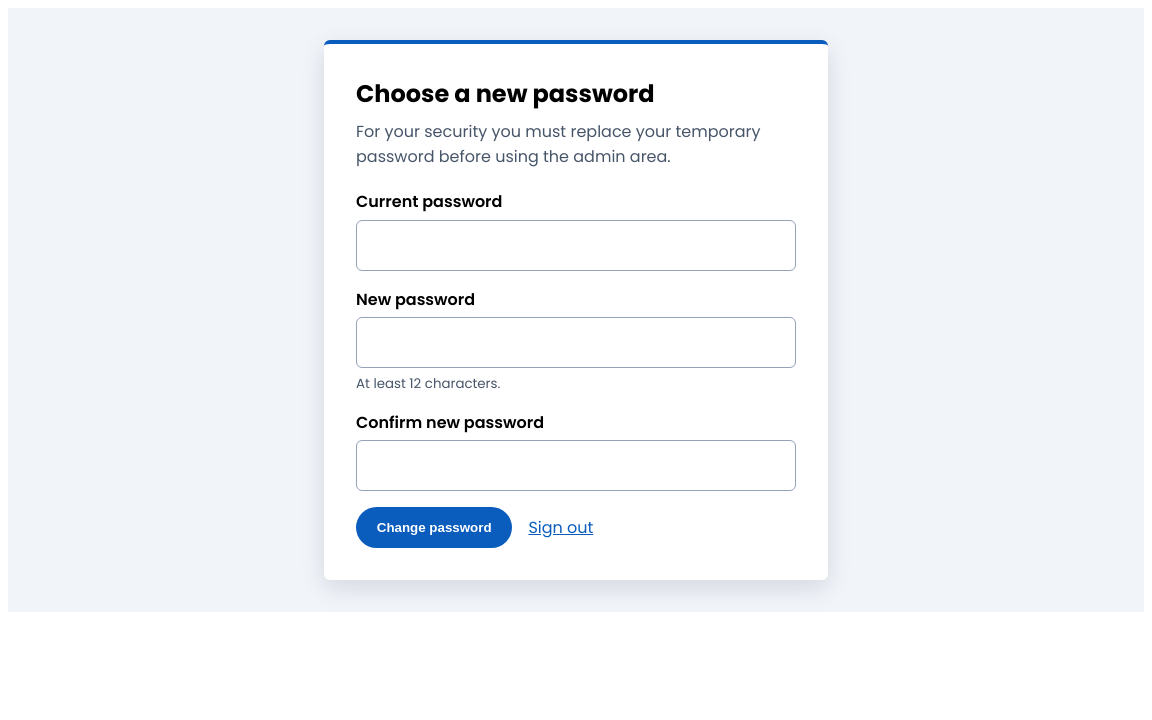
Scenario: ChangePasswordPageComponent › requires the confirmation to match
This screenshot has width=1152, height=720.
Type "temporary-password-1" into the password field labelled "Current password" at x=576, y=245, box [356, 220, 796, 271]
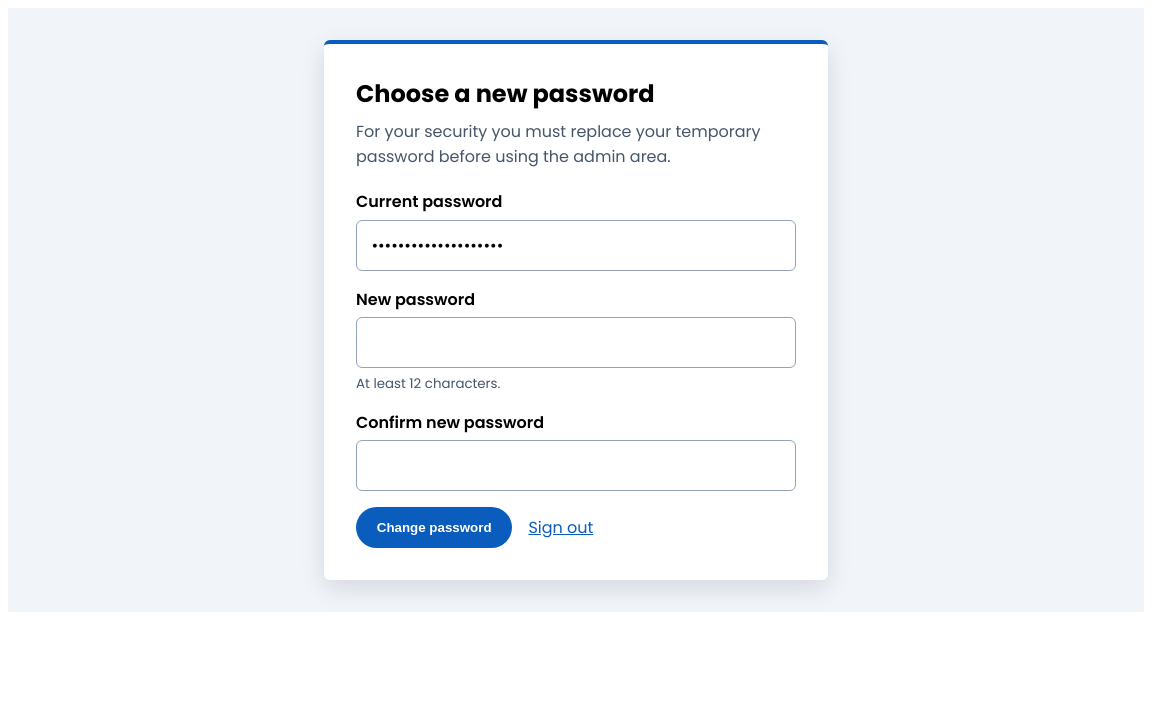
Type "a-brand-new-password" into the password field labelled "New password" at x=576, y=343, box [356, 317, 796, 368]
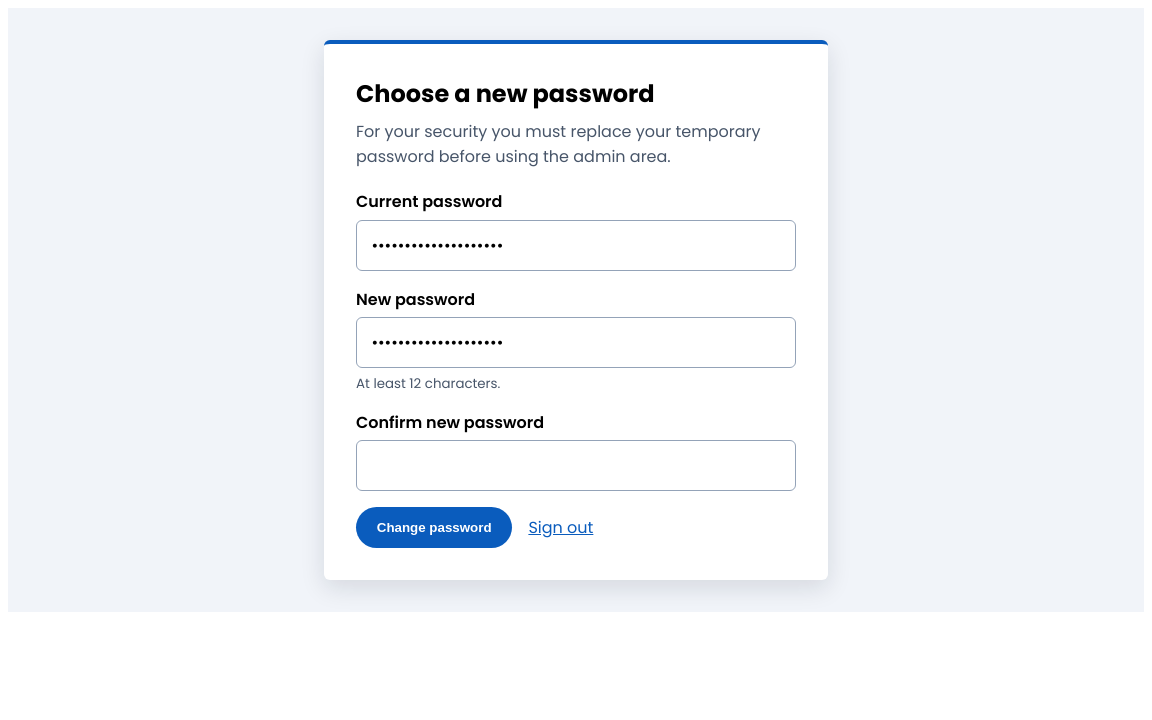
Type "a-different-password" into the password field labelled "Confirm new password" at x=576, y=466, box [356, 440, 796, 491]
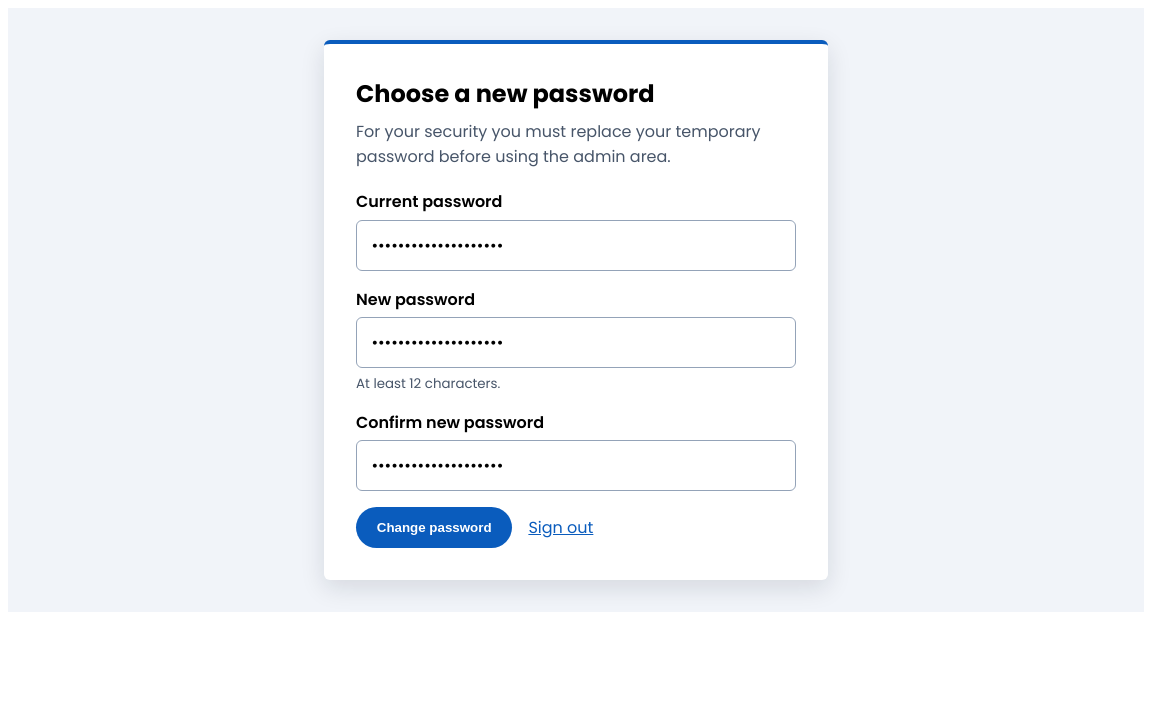
Click the submit button at x=434, y=528, box [356, 507, 512, 548]
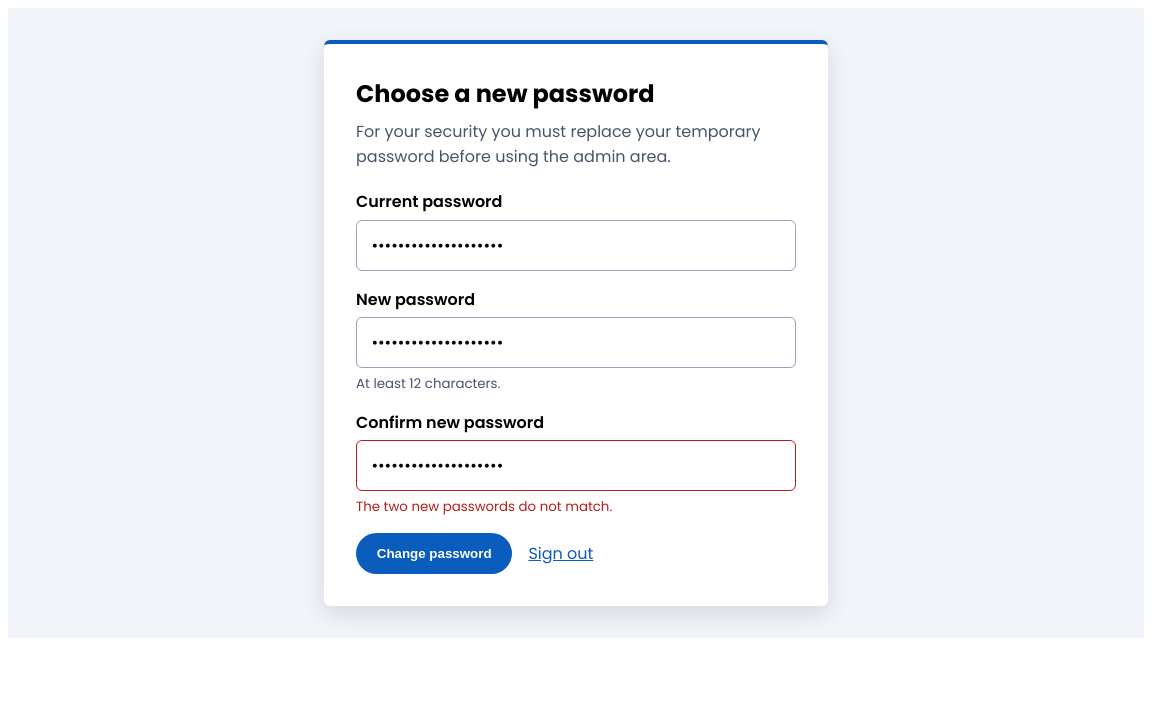
Expected: the text "do not match" is shown, [356, 497, 612, 516]
